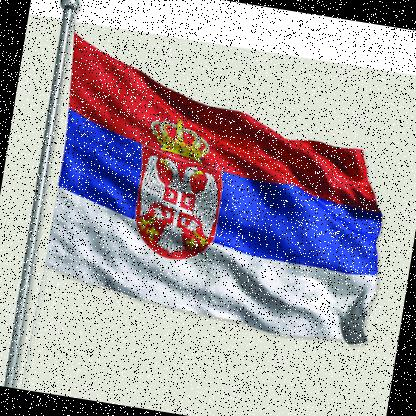rs: (32, 32, 411, 350)
